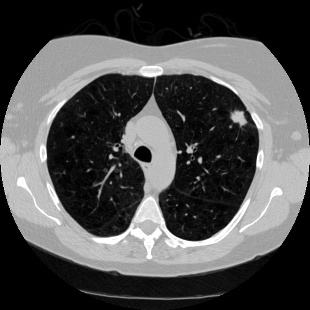PN: (231, 110, 247, 126)
